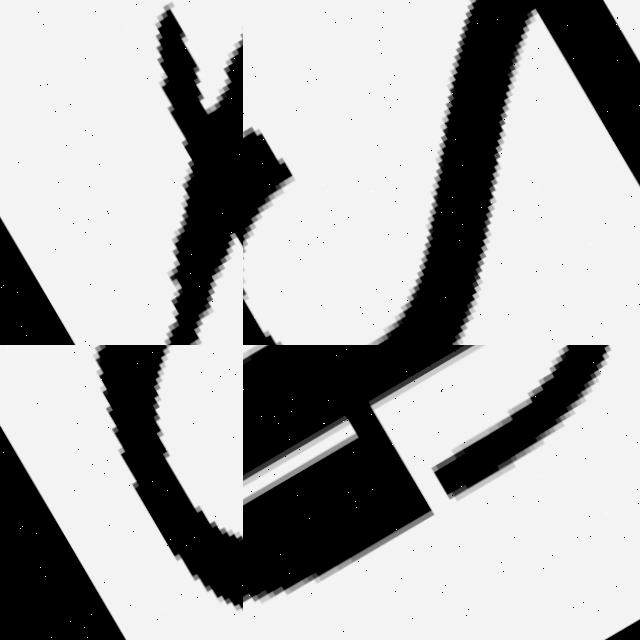2: (243, 0, 640, 345)
A: (0, 345, 243, 640)
E: (243, 345, 471, 601)
T: (0, 0, 243, 345)
